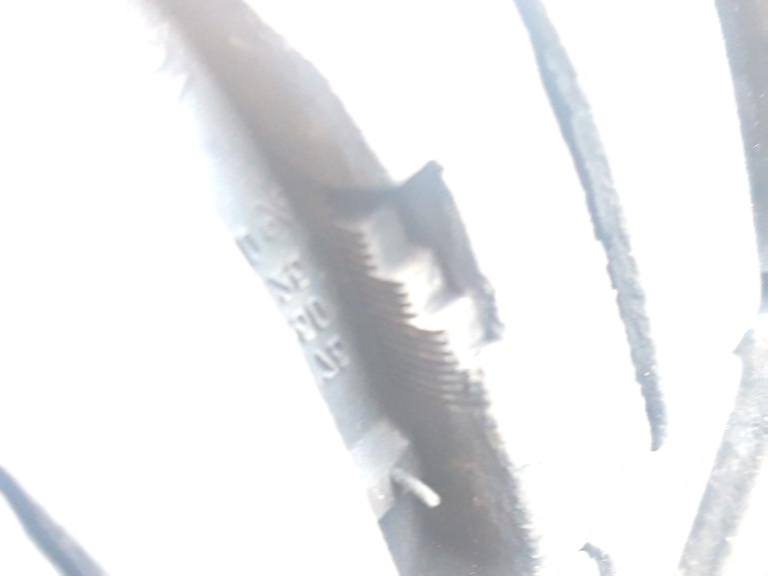temoin:80: (295, 148, 525, 424)
